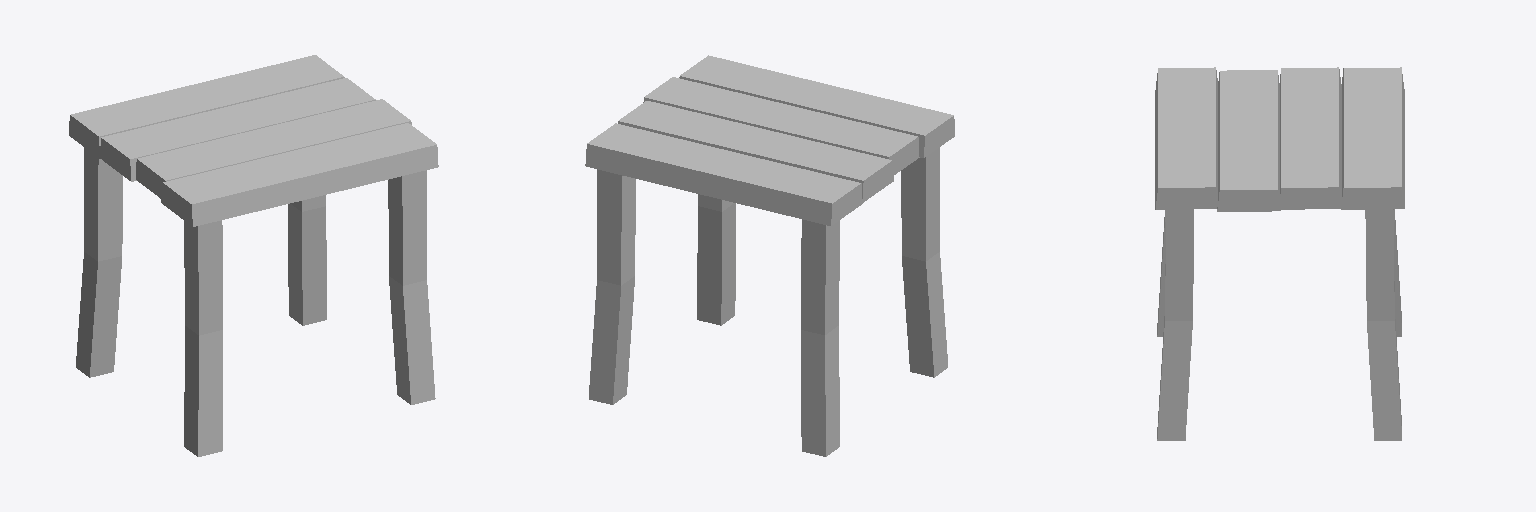
File: Wabble_Table.OBJ
3 renders of one model, left to right at view 1: azimuth 30°, elevation 25°; view 2: azimuth 150°, elevation 25°; view 3: azimuth 270°, elevation 25°, orthographic.
Visible parts, largest first — view 1: Wabble_Table; view 2: Wabble_Table; view 3: Wabble_Table.
Part boxes in pixels (bbox=[...]): Wabble_Table: bbox=[69, 55, 438, 456]; Wabble_Table: bbox=[585, 55, 954, 456]; Wabble_Table: bbox=[1155, 67, 1404, 440].
Bounding box in the file's own units: 0.6665 × 0.6476 × 0.5736.